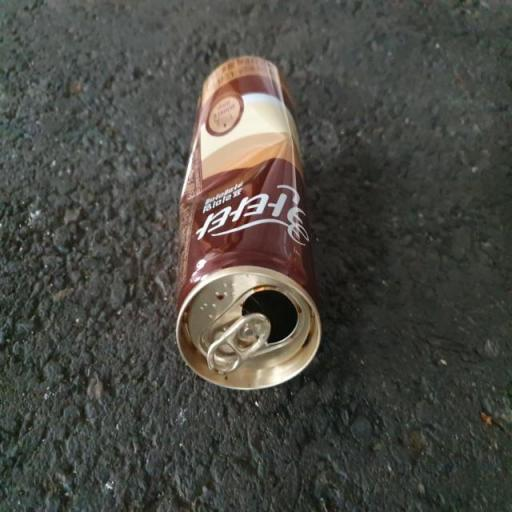metal: (140, 37, 389, 441)
